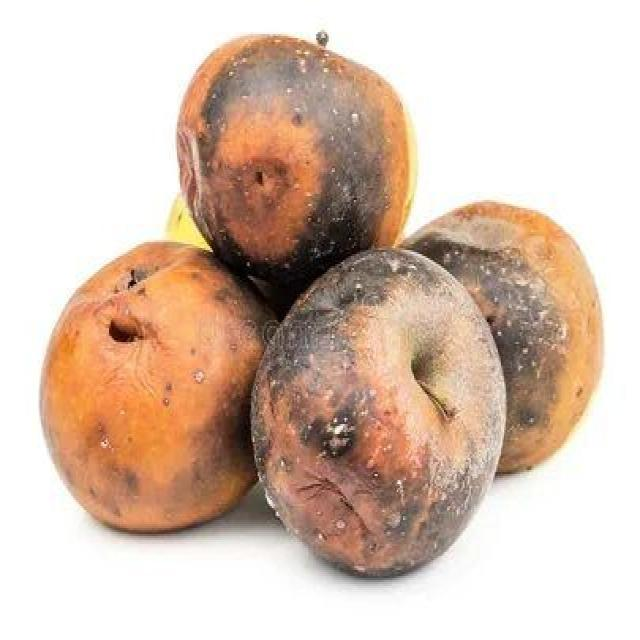Rotten Apple: (253, 245, 506, 575), (37, 243, 271, 537), (176, 37, 420, 293)
